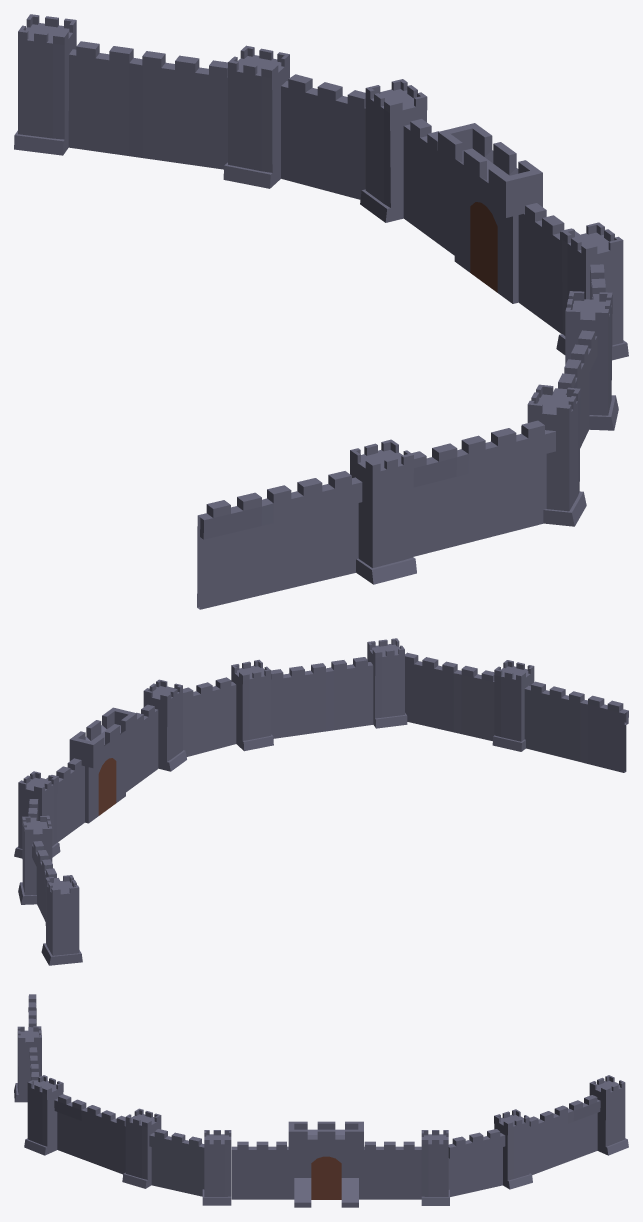
The model's file is Muralha.fbx.
3 views of the same model, one above another, from view 1: azimuth 30°, elevation 25°; view 2: azimuth 150°, elevation 25°; view 3: azimuth 270°, elevation 25° (orthographic). The views are drawn at different scales.
Visible parts, largest first — view 1: Cube.004; view 2: Cube.004; view 3: Cube.004.
Part boxes in pixels (box(x1,y1,x2,y2)): Cube.004: box(14, 14, 628, 609); Cube.004: box(14, 638, 628, 965); Cube.004: box(14, 994, 628, 1207).
Size of the model in its own units: 16919 by 10373 by 2176.
